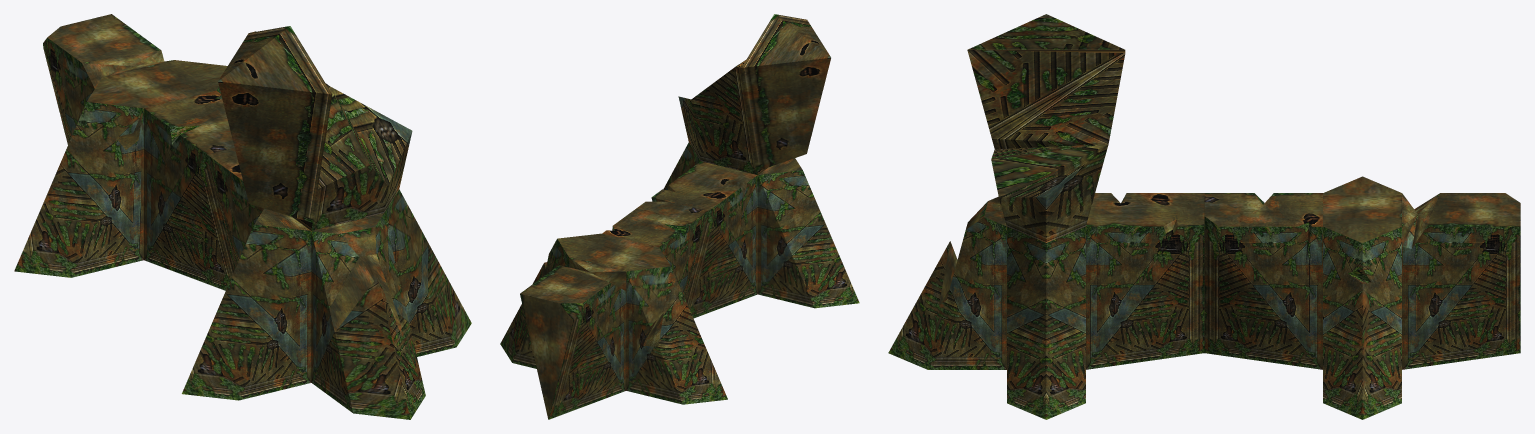
File: mbwall02.FBX
3 renders of one model, left to right at view 1: azimuth 30°, elevation 25°; view 2: azimuth 150°, elevation 25°; view 3: azimuth 270°, elevation 25°, orthographic. The views are drawn at different scales.
Parts seen in each view (by area): view 1: mbwall02; view 2: mbwall02; view 3: mbwall02.
Boxes of the visible parts, <box> form: mbwall02: <box>14,14,471,419</box>; mbwall02: <box>500,14,859,419</box>; mbwall02: <box>888,14,1520,419</box>.
Size of what is drawn, in the model's own units: 16 by 32 by 18.
